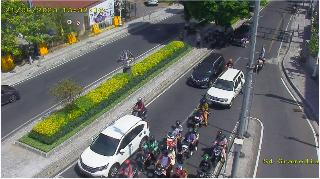mobil: (76, 114, 158, 178), (182, 50, 225, 88), (210, 70, 248, 110)
motor: (140, 134, 160, 170), (192, 100, 214, 130), (210, 130, 226, 168), (164, 126, 186, 152), (130, 101, 152, 121), (256, 49, 268, 77)
